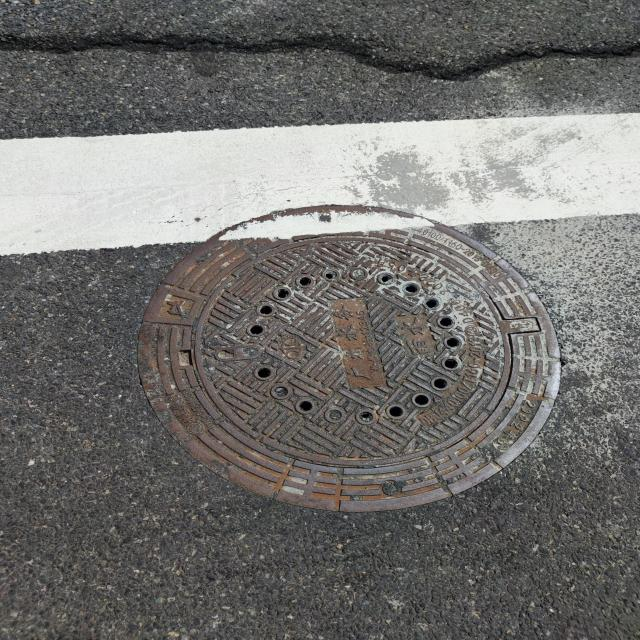Good: (128, 203, 566, 514)
